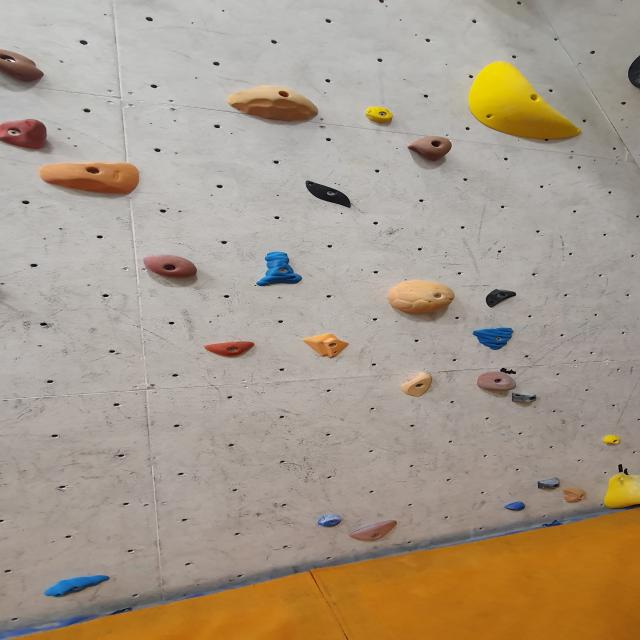Crimp: (467, 325, 526, 354), (42, 575, 112, 599), (348, 519, 401, 543), (201, 342, 259, 358), (361, 106, 397, 126), (314, 516, 342, 529), (504, 501, 528, 511), (603, 435, 624, 445)
Jug: (0, 50, 47, 86), (140, 256, 202, 281), (0, 120, 49, 151), (404, 135, 455, 162), (476, 373, 518, 394)
Pinch: (256, 252, 308, 288), (399, 373, 436, 398), (507, 391, 542, 406), (537, 478, 564, 490)
Sloper: (468, 65, 588, 146), (36, 162, 148, 198), (222, 86, 324, 125), (295, 176, 359, 218), (387, 282, 458, 318), (294, 331, 358, 358), (602, 472, 640, 510), (483, 289, 512, 305), (562, 488, 587, 503)
